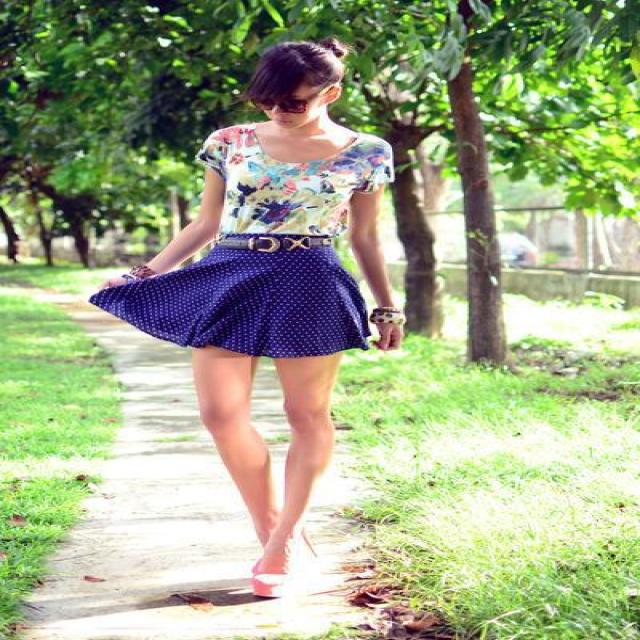shirt: (195, 115, 394, 268)
shoe: (254, 568, 309, 600)
skirt: (96, 234, 403, 357)
sunglass: (251, 79, 306, 112)
